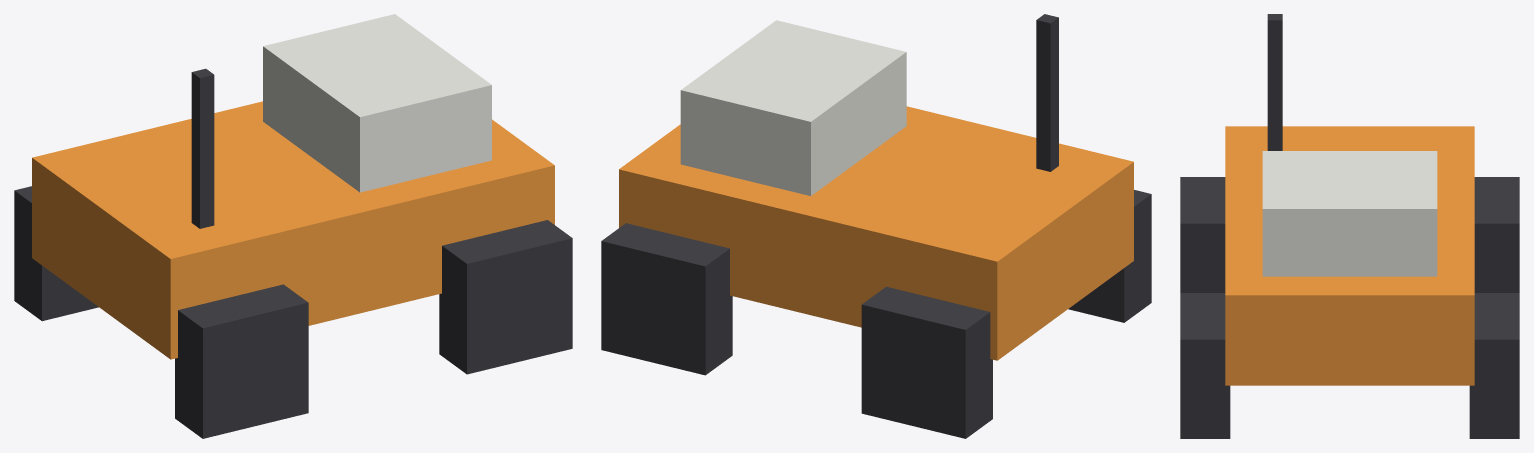
File: rover.glb
The picture shows the model from 3 angles, left to right: view 1: azimuth 30°, elevation 25°; view 2: azimuth 150°, elevation 25°; view 3: azimuth 270°, elevation 25°; orthographic projection. The views are drawn at different scales.
Visible parts, largest first — view 1: rover; view 2: rover; view 3: rover.
Part boxes in pixels (x1,y1,x2,y2): rover: (14,14,572,438); rover: (601,14,1151,438); rover: (1180,14,1519,438).
Bounding box in the file's own units: 1.6 × 1.25 × 1.36.
